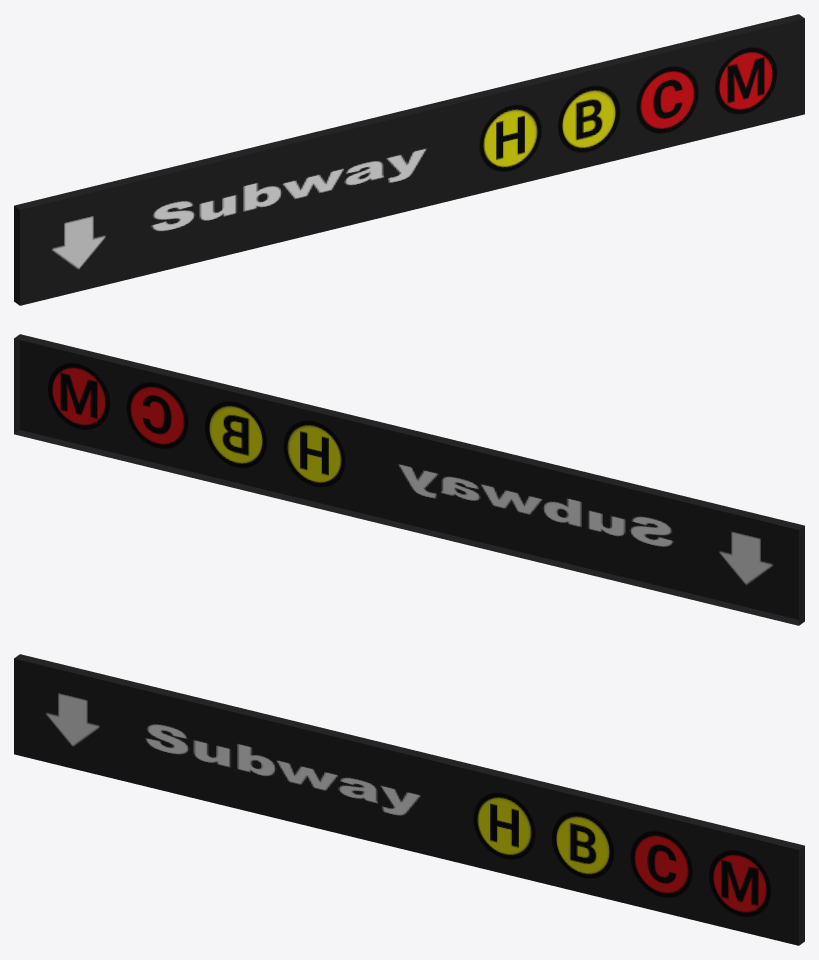
Rendered from SW_PROP_Sign_StreetEntrance_02.fbx.
The picture shows the model from 3 angles, top to bottom: view 1: azimuth 30°, elevation 25°; view 2: azimuth 150°, elevation 25°; view 3: azimuth 330°, elevation 25°; orthographic projection.
Visible parts, largest first — view 1: SW_PROP_Sign_StreetEntrance_02; view 2: SW_PROP_Sign_StreetEntrance_02; view 3: SW_PROP_Sign_StreetEntrance_02.
Boxes of the visible parts, left/top/right/bottom form: SW_PROP_Sign_StreetEntrance_02: left=14, top=14, right=804, bottom=305; SW_PROP_Sign_StreetEntrance_02: left=14, top=334, right=804, bottom=625; SW_PROP_Sign_StreetEntrance_02: left=14, top=654, right=804, bottom=945.
Size of the model in its own units: 3 by 0.35 by 0.04.
